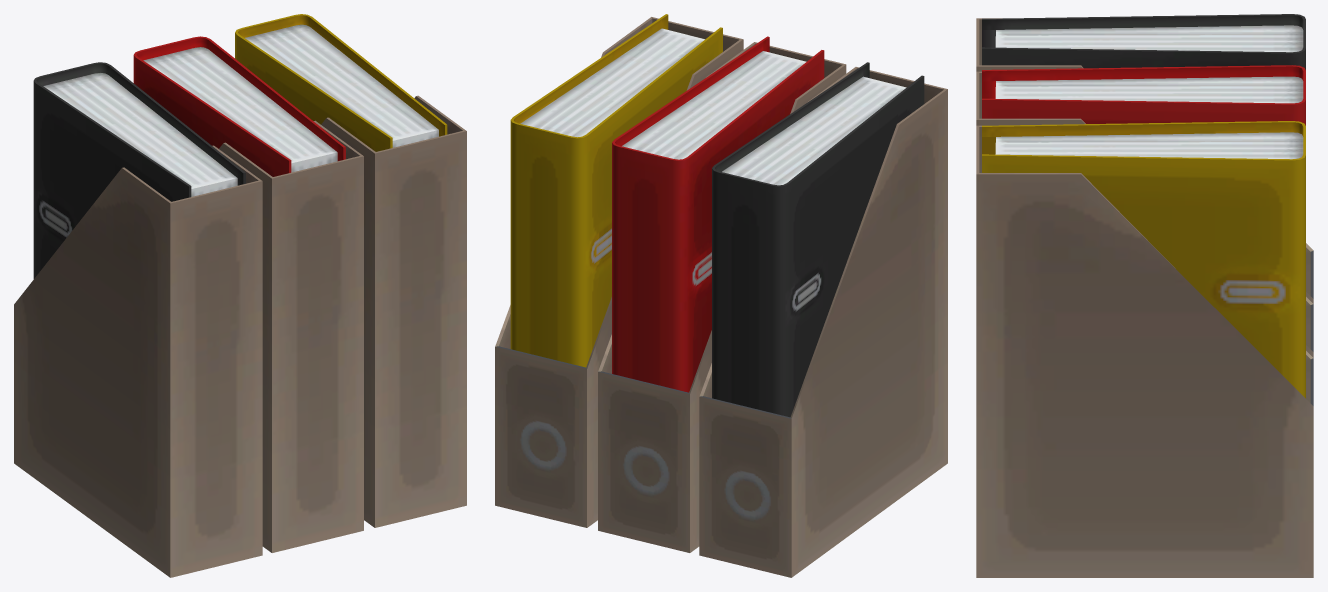
File: OfficeDeskSet02__7.fbx
3 renders of one model, left to right at view 1: azimuth 30°, elevation 25°; view 2: azimuth 150°, elevation 25°; view 3: azimuth 270°, elevation 25°, orthographic. The views are drawn at different scales.
Visible parts, largest first — view 1: OfficeDeskSet02; view 2: OfficeDeskSet02; view 3: OfficeDeskSet02.
Boxes of the visible parts, left/top/right/bottom form: OfficeDeskSet02: left=14, top=14, right=466, bottom=577; OfficeDeskSet02: left=495, top=14, right=947, bottom=577; OfficeDeskSet02: left=976, top=14, right=1313, bottom=577.
Size of the model in its own units: 0.2527 by 0.3142 by 0.231.
1 material, 1 textured.
